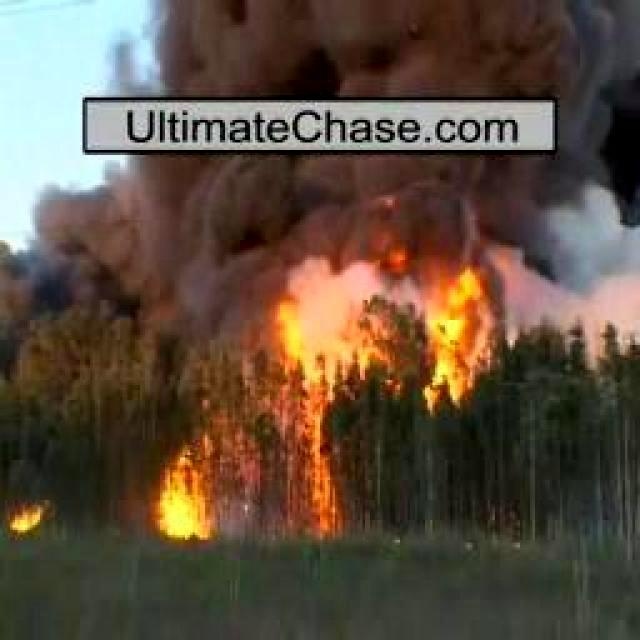helmet: (148, 244, 508, 546), (11, 500, 50, 529)
no_helmet: (110, 0, 640, 102), (0, 156, 269, 343), (267, 156, 640, 248)
